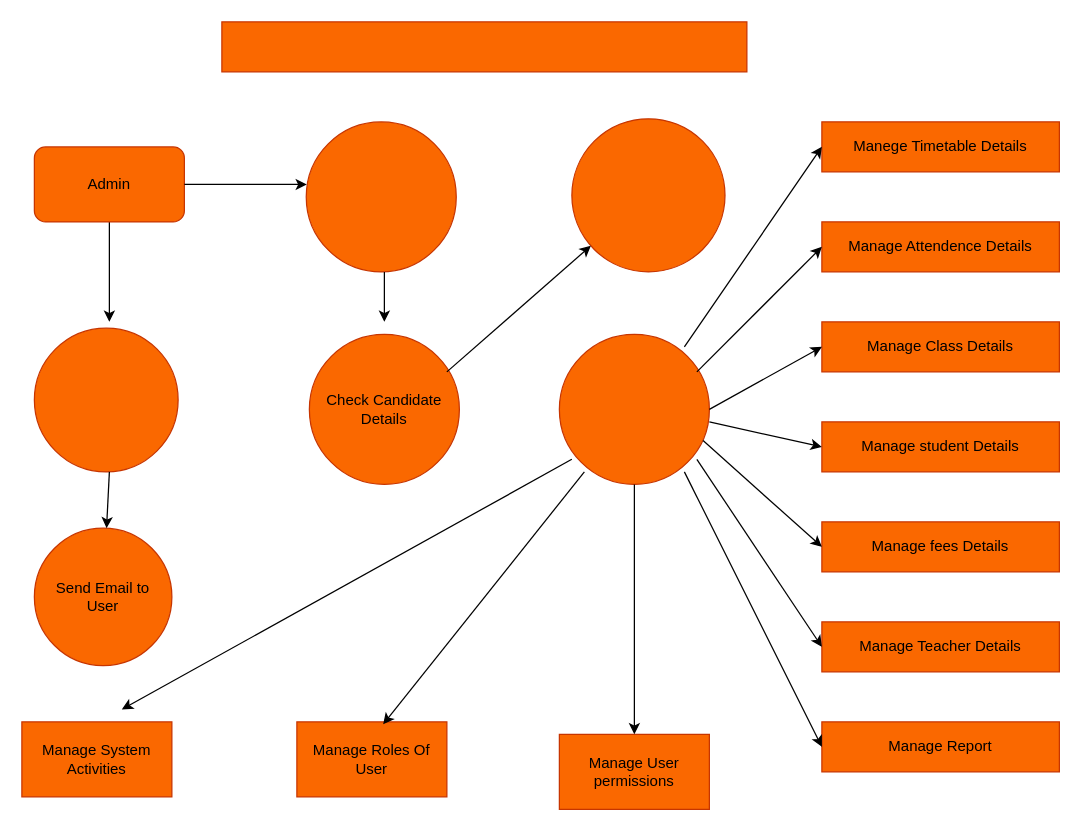
Image size: 1081x831. Some labels were removed from this diagram. Each missing label, with the centre of its shape:
Check roles of acces: point (648, 195)
Forgot Password: point (105, 399)
Login To System: point (380, 196)
Manage modules: point (633, 408)
Student information System: point (484, 46)
